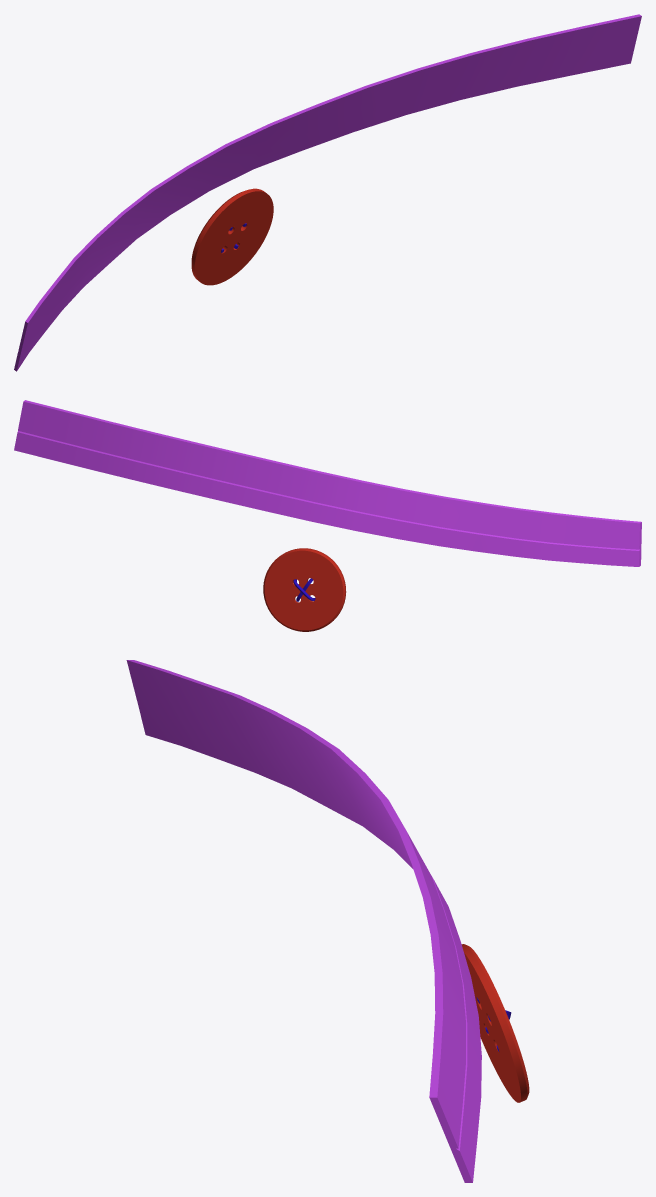
Rendered from SM_CarlosSA_Trousers_BackPockets_1RevolverR.fbx.
3 renders of one model, top to bottom at view 1: azimuth 30°, elevation 25°; view 2: azimuth 150°, elevation 25°; view 3: azimuth 270°, elevation 25°, orthographic. The views are drawn at different scales.
Parts seen in each view (by area): view 1: SM_CarlosSA_Trousers_BackPockets_1RevolverR; view 2: SM_CarlosSA_Trousers_BackPockets_1RevolverR; view 3: SM_CarlosSA_Trousers_BackPockets_1RevolverR.
Part boxes in pixels (<box>): SM_CarlosSA_Trousers_BackPockets_1RevolverR: <box>14,14,641,371</box>; SM_CarlosSA_Trousers_BackPockets_1RevolverR: <box>14,400,641,631</box>; SM_CarlosSA_Trousers_BackPockets_1RevolverR: <box>126,660,529,1182</box>.
Bounding box in the file's own units: 0.0897 × 0.0227 × 0.0287.
